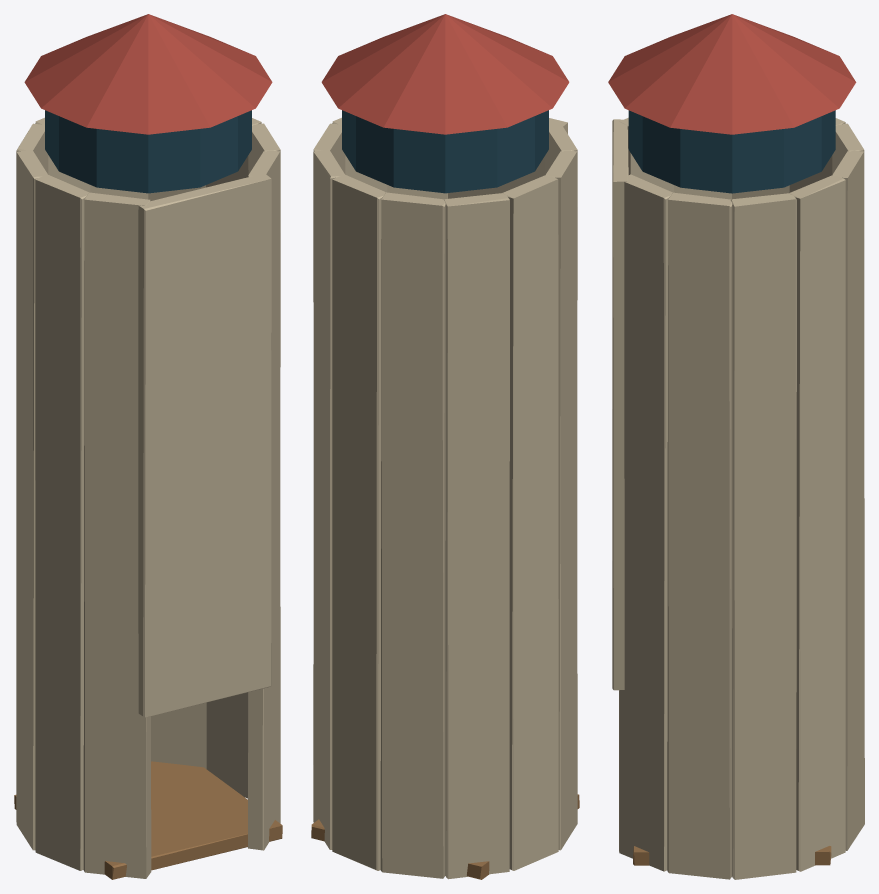
Rendered from harbor-lighthouse.lod1.glb.
3 views of the same model, side by side, from view 1: azimuth 30°, elevation 25°; view 2: azimuth 150°, elevation 25°; view 3: azimuth 270°, elevation 25° (orthographic).
Visible parts, largest first — view 1: harbor-lighthouse__body, harbor-lighthouse__front-wall, harbor-lighthouse__roof; view 2: harbor-lighthouse__body, harbor-lighthouse__roof, harbor-lighthouse__front-wall; view 3: harbor-lighthouse__body, harbor-lighthouse__roof, harbor-lighthouse__front-wall.
Part boxes in pixels (x1=…): harbor-lighthouse__body: x1=14, y1=110, x2=282, y2=879; harbor-lighthouse__front-wall: x1=138, y1=173, x2=271, y2=717; harbor-lighthouse__roof: x1=24, y1=14, x2=272, y2=134; harbor-lighthouse__body: x1=311, y1=110, x2=579, y2=879; harbor-lighthouse__roof: x1=321, y1=14, x2=569, y2=134; harbor-lighthouse__front-wall: x1=448, y1=118, x2=567, y2=198; harbor-lighthouse__body: x1=619, y1=110, x2=864, y2=879; harbor-lighthouse__roof: x1=608, y1=14, x2=856, y2=134; harbor-lighthouse__front-wall: x1=612, y1=119, x2=628, y2=690.
Bounding box in the file's own units: 3.2 × 10.8 × 3.1.
